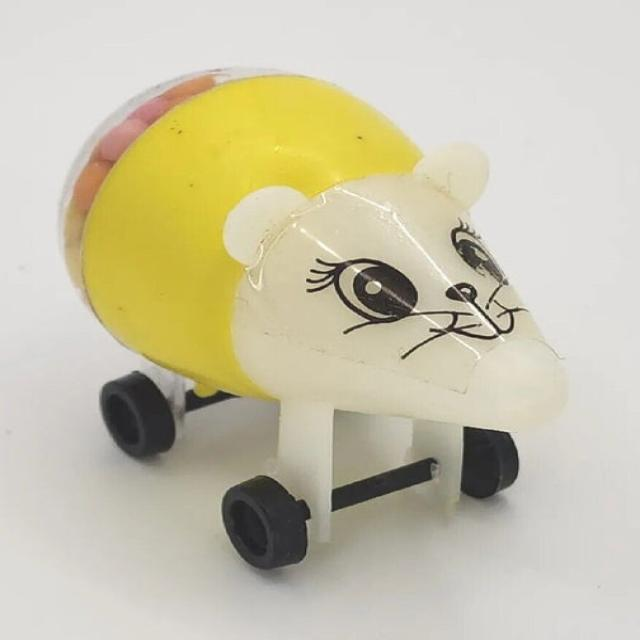hard-toy: (62, 72, 566, 569)
